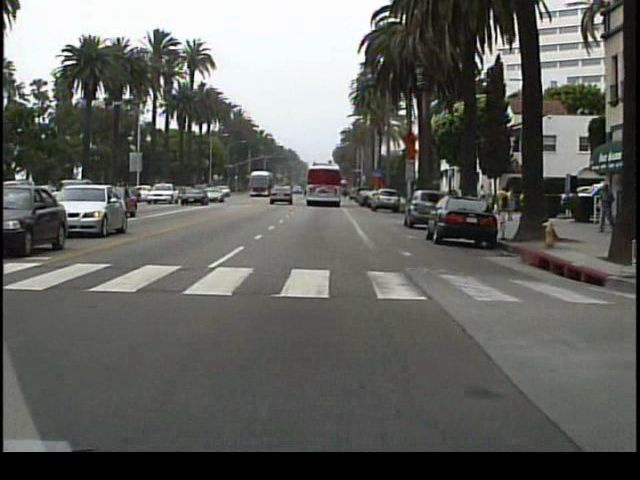person: (593, 176, 615, 235)
